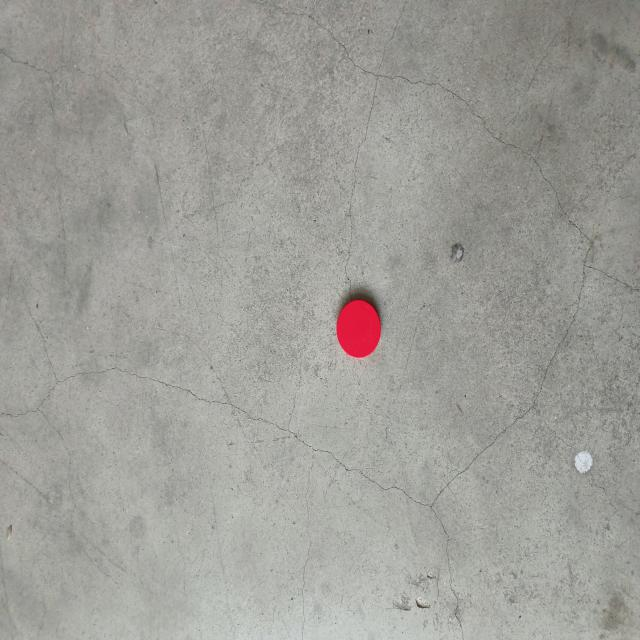chip: (336, 299, 382, 358)
